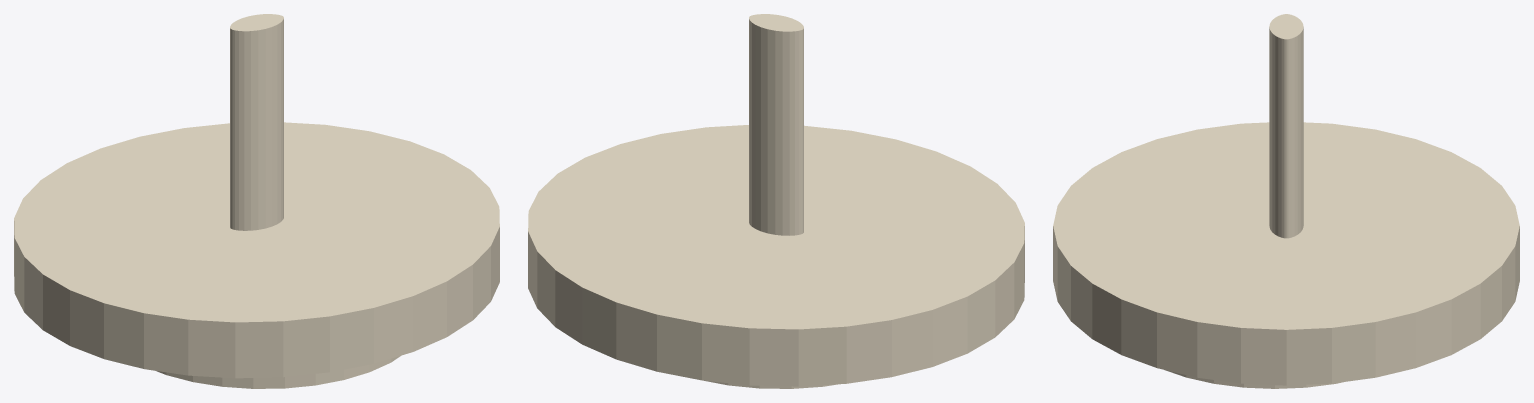
Rendered from chandelier.gltf.
3 renders of one model, left to right at view 1: azimuth 30°, elevation 25°; view 2: azimuth 150°, elevation 25°; view 3: azimuth 270°, elevation 25°, orthographic. The views are drawn at different scales.
Parts seen in each view (by area): view 1: Cylinder, Cylinder.001; view 2: Cylinder; view 3: Cylinder, Cylinder.001.
Boxes of the visible parts, bbox=[...] form: Cylinder: bbox=[14, 14, 499, 378]; Cylinder.001: bbox=[156, 356, 400, 388]; Cylinder: bbox=[528, 14, 1024, 386]; Cylinder: bbox=[1053, 14, 1519, 385]; Cylinder.001: bbox=[1165, 370, 1343, 388].
Size of the model in its own units: 10.03 by 6.6 by 9.5.
